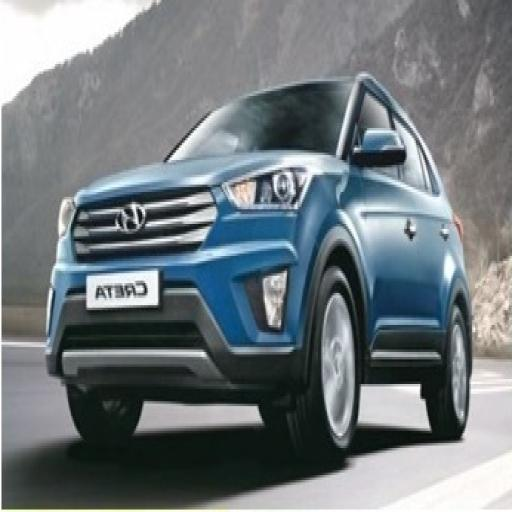License: (91, 271, 158, 312)
